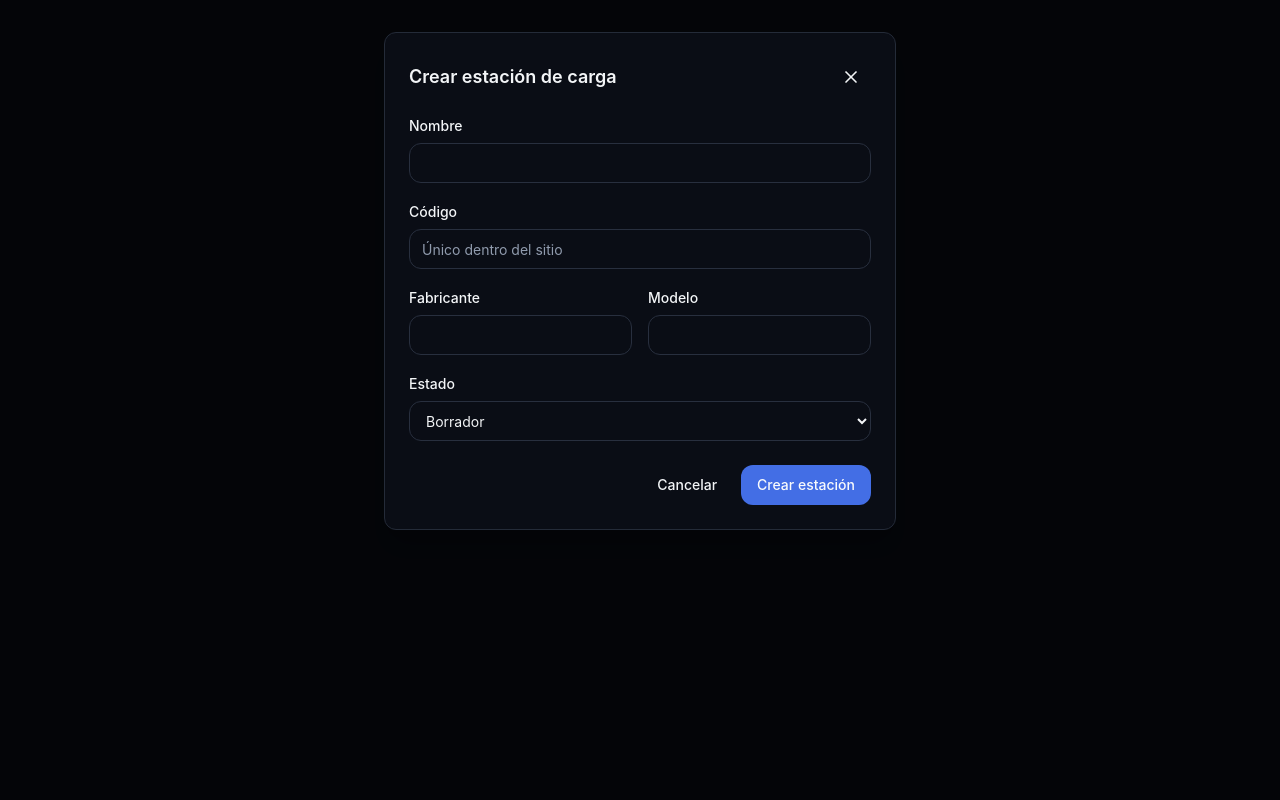
Scenario: ChargingStationFormModal › rejects submission with an empty name (create mode)
The width and height of the screenshot is (1280, 800).
Click the button "Crear estación": (806, 485) 741,465 -> 871,505
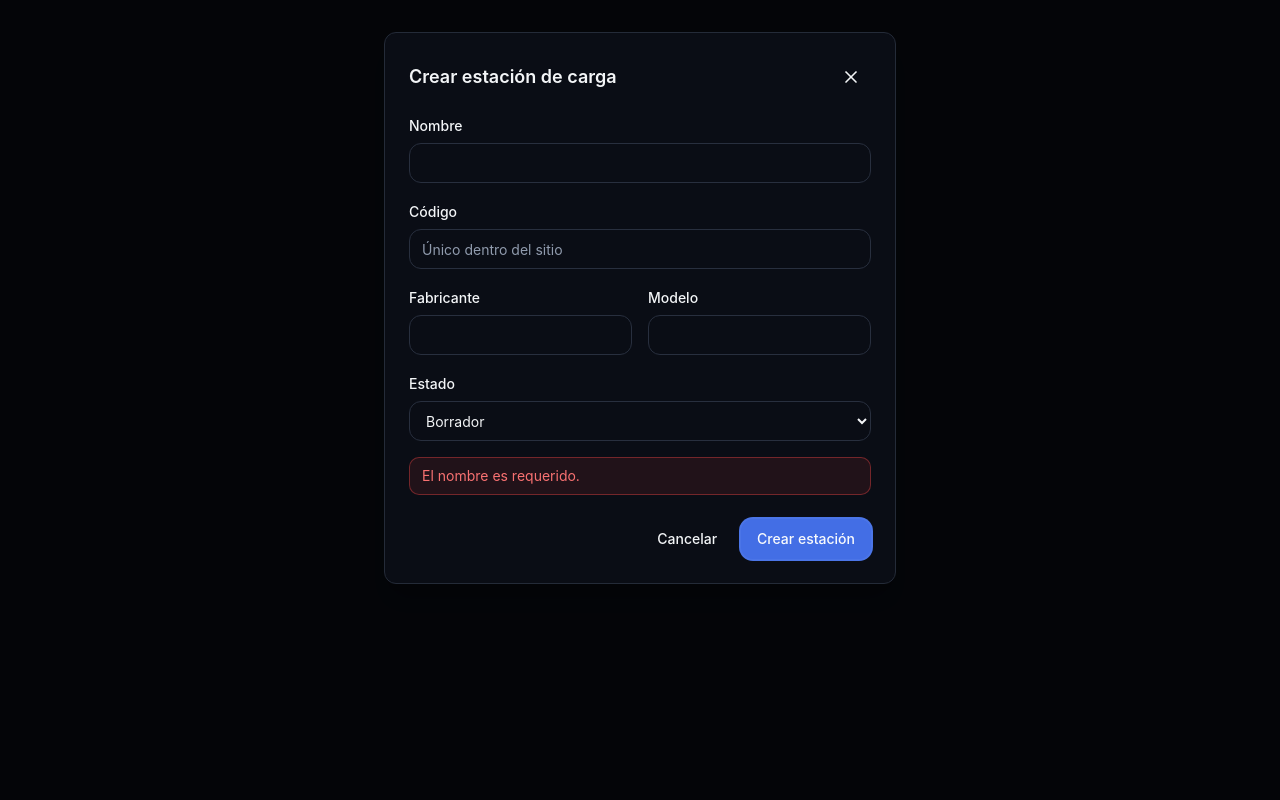
Now the message reads "El nombre es requerido.", box 422,467 -> 580,484
